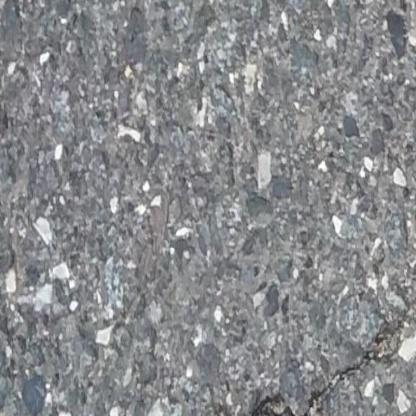Cracks: (204, 314, 394, 416)
